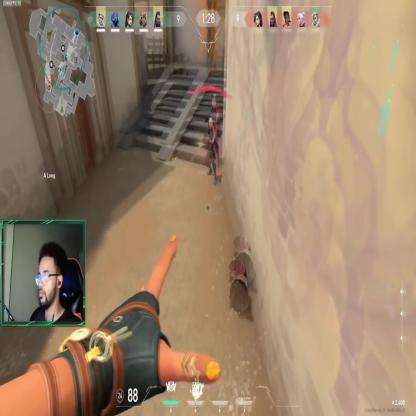enemy: (206, 116, 217, 184)
enemy_head: (208, 118, 214, 130)
